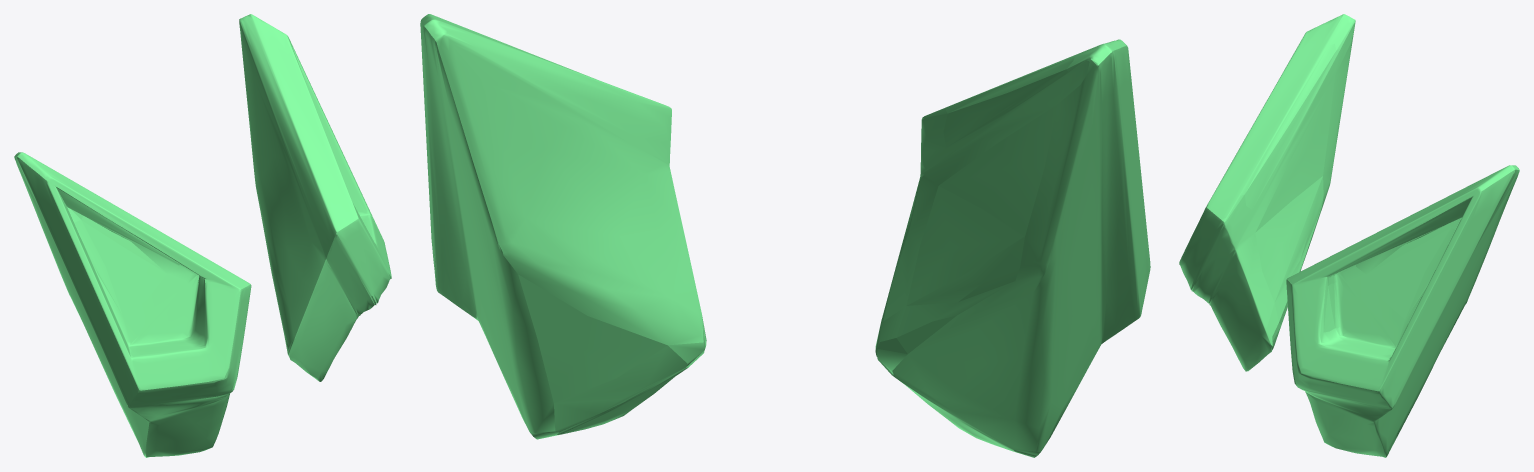
The picture shows the model from 3 angles, left to right: view 1: azimuth 30°, elevation 25°; view 2: azimuth 150°, elevation 25°; view 3: azimuth 270°, elevation 25°; orthographic projection. The views are drawn at different scales.
Visible parts, largest first — view 1: ears_008; view 2: ears_008; view 3: ears_008.
Part boxes in pixels (box(x1,y1,x2,y2)): ears_008: box(14, 14, 391, 457); ears_008: box(420, 14, 1150, 457); ears_008: box(1179, 14, 1519, 457).
Size of the model in its own units: 92.97 by 72.04 by 68.55.
